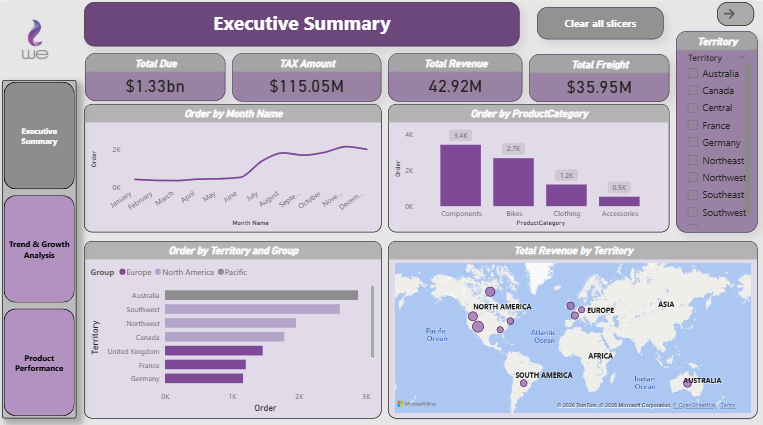

This screenshot's page, from the dashboard's own definition file:
{"tool":"powerbi","page":{"name":"Executive Summary","canvas":[1280,720],"ordinal":0},"visuals":[{"type":"card","title":"TAX Amount","fields":{"Values":["DAX_Measures.TAX Amount"]},"box":[390,84.3,248.6,81.4],"z":0},{"type":"card","title":"Total Due","fields":{"Values":["DAX_Measures.Total Due"]},"box":[145.7,85.7,234.3,80],"z":1000},{"type":"card","title":"Total Freight","fields":{"Values":["DAX_Measures.Total Freight"]},"box":[884.3,87.1,234.3,80],"z":2000},{"type":"card","title":"Total Revenue","fields":{"Values":["DAX_Measures.Total Revenue"]},"box":[650,84.3,224.3,81.4],"z":3000},{"type":"lineChart","fields":{"Y":["DAX_Measures.Order"],"Category":["Dim Date.Year Hierarchy.Year","Dim Date.Year Hierarchy.Quarter","Dim Date.Year Hierarchy.Month Name","Dim Date.Year Hierarchy.Day"]},"box":[143.8,170,496.2,213.8],"z":4000},{"type":"barChart","fields":{"Y":["DAX_Measures.Order"],"Category":["Dim Territory.Territory"],"Series":["Dim Territory.Group"]},"box":[144,398,496,296],"z":5000},{"type":"columnChart","fields":{"Y":["DAX_Measures.Order"],"Category":["Dim Products.ProductCategory"]},"box":[650,170,468.6,214.3],"z":6000},{"type":"map","fields":{"Category":["Dim Territory.Territory"],"Size":["DAX_Measures.Total Revenue"]},"box":[650,398.6,615.7,295.7],"z":7000},{"type":"image","box":[0,0,123.8,125],"z":8000},{"type":"textbox","box":[143.8,0,726.2,73.8],"z":9000},{"type":"actionButton","box":[898.6,8.6,211.4,54.3],"z":10000},{"type":"pageNavigator","box":[6,130,124,564],"z":11000},{"type":"slicer","title":"Territory","fields":{"Values":["Dim Territory.Territory"]},"box":[1130,48,136,336],"z":12000},{"type":"actionButton","box":[1197.8,0,62.2,40],"z":13000}]}

Visuals, with their boxes in screenshot pixels (x1, y1, x2, y2), scaled from the page's 1280x720 canvas onto the 763x425 screenshot:
"TAX Amount" card: {"x1": 232, "y1": 50, "x2": 381, "y2": 98}
"Total Due" card: {"x1": 87, "y1": 51, "x2": 227, "y2": 98}
"Total Freight" card: {"x1": 527, "y1": 51, "x2": 667, "y2": 99}
"Total Revenue" card: {"x1": 387, "y1": 50, "x2": 521, "y2": 98}
lineChart - DAX_Measures.Order x Dim Date.Year Hierarchy.Year: {"x1": 86, "y1": 100, "x2": 382, "y2": 227}
barChart - DAX_Measures.Order x Dim Territory.Territory: {"x1": 86, "y1": 235, "x2": 382, "y2": 410}
columnChart - DAX_Measures.Order x Dim Products.ProductCategory: {"x1": 387, "y1": 100, "x2": 667, "y2": 227}
map - Dim Territory.Territory x DAX_Measures.Total Revenue: {"x1": 387, "y1": 235, "x2": 754, "y2": 410}
image: {"x1": 0, "y1": 0, "x2": 74, "y2": 74}
textbox: {"x1": 86, "y1": 0, "x2": 519, "y2": 44}
actionButton: {"x1": 536, "y1": 5, "x2": 662, "y2": 37}
pageNavigator: {"x1": 4, "y1": 77, "x2": 77, "y2": 410}
"Territory" slicer: {"x1": 674, "y1": 28, "x2": 755, "y2": 227}
actionButton: {"x1": 714, "y1": 0, "x2": 751, "y2": 24}
